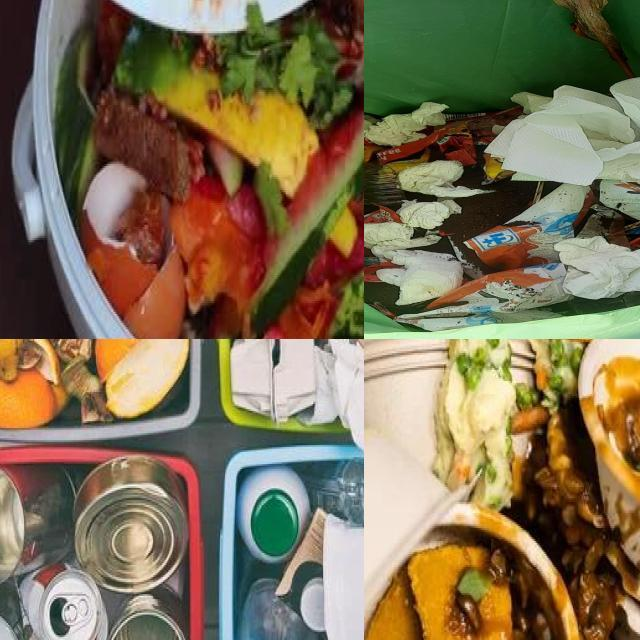Disposable: (364, 339, 580, 640), (364, 160, 418, 206), (509, 339, 534, 382)
Garbage: (41, 0, 364, 339), (364, 339, 640, 640), (364, 78, 640, 331), (0, 454, 189, 640), (235, 463, 364, 640), (0, 339, 202, 441), (107, 586, 186, 640)
Glass_bottle: (241, 578, 318, 640)
Metal: (0, 456, 189, 640)
Plastic: (322, 516, 364, 640)
Plastic_Bag: (396, 263, 572, 331), (465, 184, 591, 272)
Plastic_bottle: (237, 466, 309, 563), (309, 458, 364, 525)
Plastic_wraper: (600, 180, 640, 220), (436, 135, 477, 166), (481, 154, 515, 184), (364, 257, 399, 282)
contaminated_waste: (231, 339, 317, 421), (237, 466, 309, 563)
